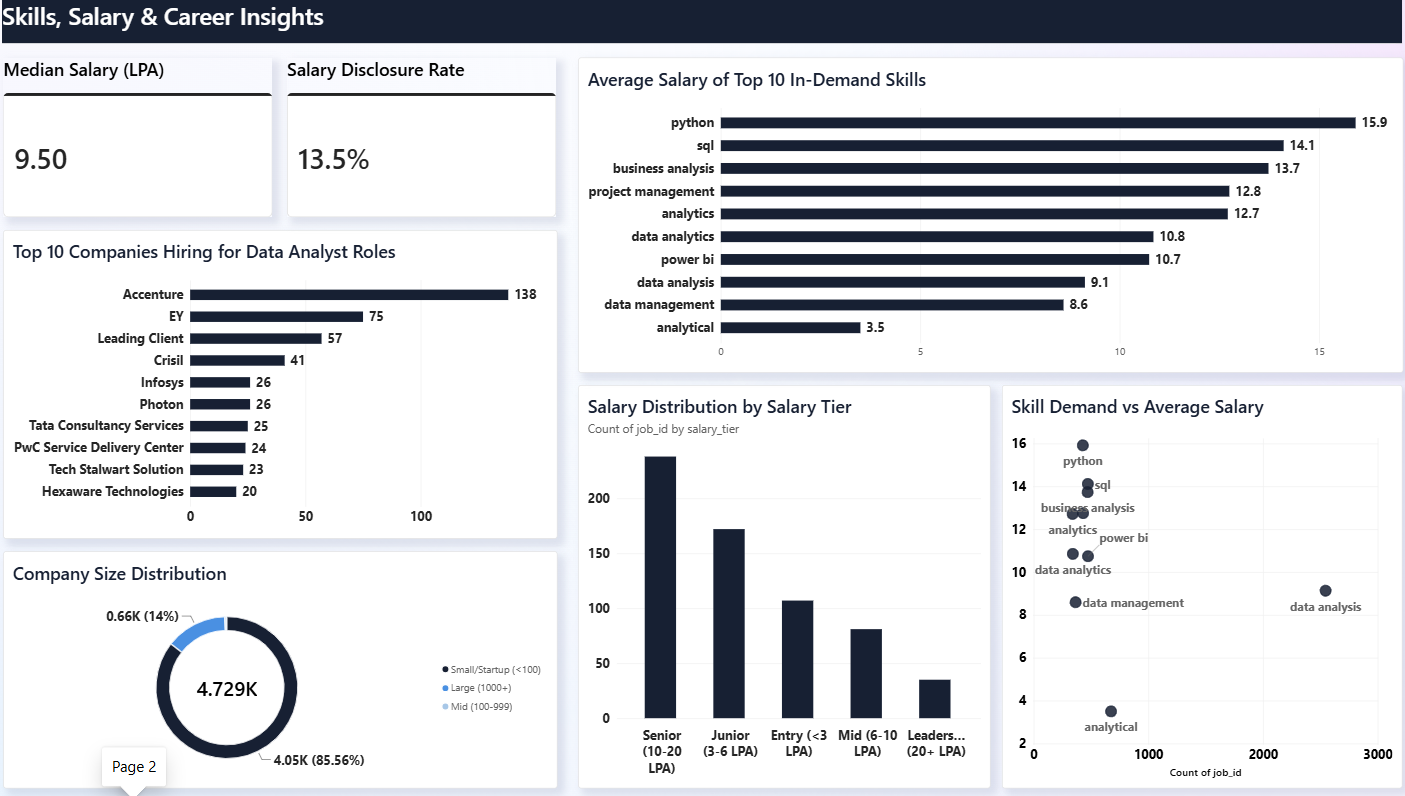

The page's visual inventory and layout, read from the dashboard file:
{"tool":"powerbi","page":{"name":"Page 2","canvas":[1920,1080],"ordinal":1},"visuals":[{"type":"textbox","title":"Skills, Salary & Career Insights","box":[13.5,0,1893.6,59.2],"z":0},{"type":"clusteredColumnChart","title":"Salary Distribution by Salary Tier","fields":{"Category":["Data_Analyst_Final.salary_tier"],"Y":["CountNonNull(Data_Analyst_Final.job_id)"]},"box":[792.5,520.8,557.8,545.5],"z":1},{"type":"cardVisual","title":"Median Salary (LPA)","fields":{"Data":["Data_Analyst_Final.Median Salary"]},"box":[14.4,78.2,364.3,216.1],"z":2},{"type":"clusteredBarChart","title":"Average Salary of Top 10 In-Demand Skills","fields":{"Category":["Skills.skills_required"],"Y":["Data_Analyst_Final.Average Salary by Skill"]},"box":[792.5,78.2,1115.6,426.1],"z":3},{"type":"clusteredBarChart","title":"Top 10 Companies Hiring for Data Analyst Roles","fields":{"Category":["Data_Analyst_Final.company_name"],"Y":["CountNonNull(Data_Analyst_Final.job_id)"]},"box":[14.4,310.8,749.2,417.8],"z":4},{"type":"donutChart","title":"Company Size Distribution","fields":{"Category":["Data_Analyst_Final.company_size_bucket"],"Y":["CountNonNull(Data_Analyst_Final.job_id)"]},"box":[14.4,745.1,749.2,321.1],"z":5},{"type":"scatterChart","title":"Skill Demand vs Average Salary","fields":{"Category":["Skills.skills_required"],"X":["CountNonNull(Skills.job_id)"],"Y":["Data_Analyst_Final.Average Salary by Skill"]},"box":[1366.7,520.8,541.3,545.5],"z":6},{"type":"cardVisual","title":"Salary Disclosure Rate","fields":{"Data":["Data_Analyst_Final.Salary Disclosure %"]},"box":[399.3,78.2,364.3,216.1],"z":7}]}

Visuals, with their boxes in screenshot pixels (x1, y1, x2, y2), scaled from the page's 1920x1080 canvas onto the 1405x796 screenshot:
"Skills, Salary & Career Insights" textbox: (left=10, top=0, right=1396, bottom=44)
"Salary Distribution by Salary Tier" clusteredColumnChart: (left=580, top=384, right=988, bottom=786)
"Median Salary (LPA)" cardVisual: (left=11, top=58, right=277, bottom=217)
"Average Salary of Top 10 In-Demand Skills" clusteredBarChart: (left=580, top=58, right=1396, bottom=372)
"Top 10 Companies Hiring for Data Analyst Roles" clusteredBarChart: (left=11, top=229, right=559, bottom=537)
"Company Size Distribution" donutChart: (left=11, top=549, right=559, bottom=786)
"Skill Demand vs Average Salary" scatterChart: (left=1000, top=384, right=1396, bottom=786)
"Salary Disclosure Rate" cardVisual: (left=292, top=58, right=559, bottom=217)
